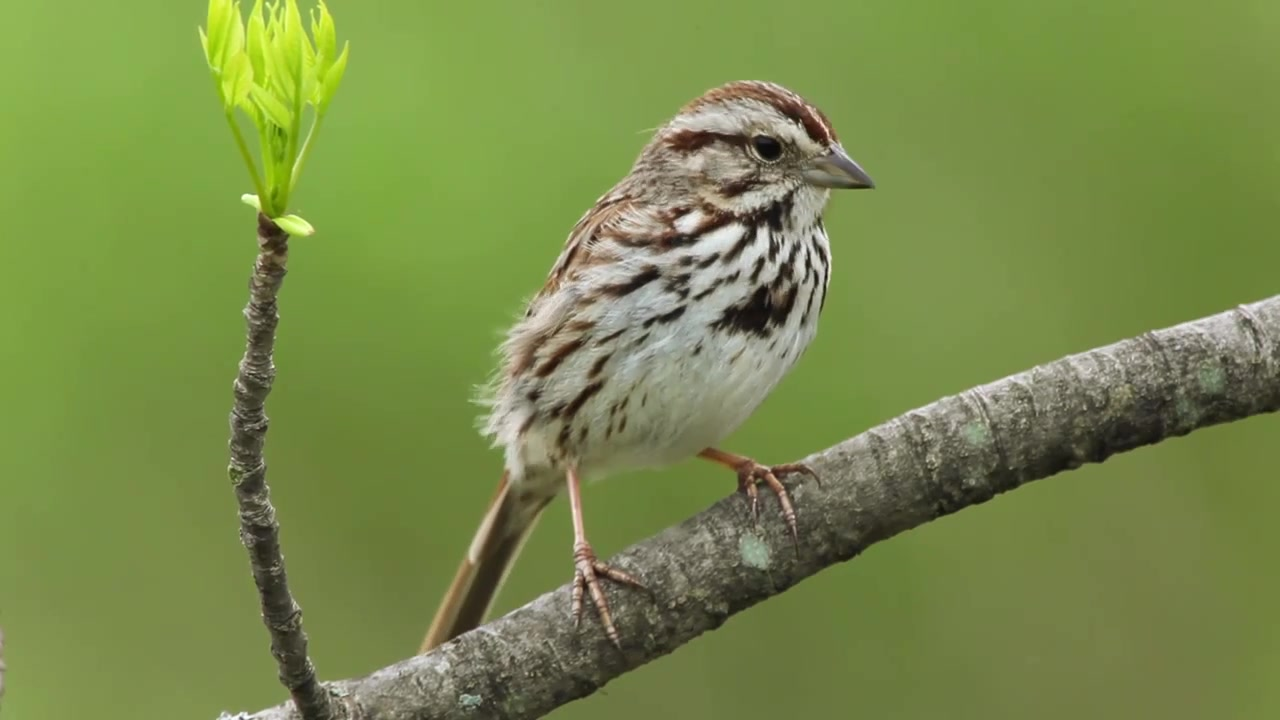bird: (420, 78, 878, 663)
